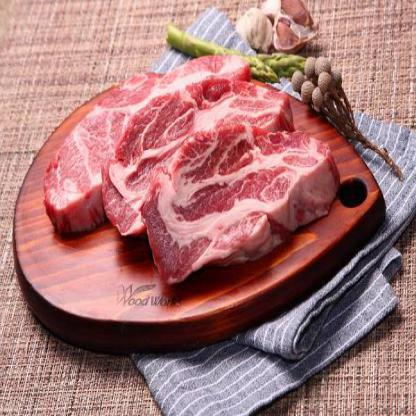pork: (66, 61, 330, 278)
